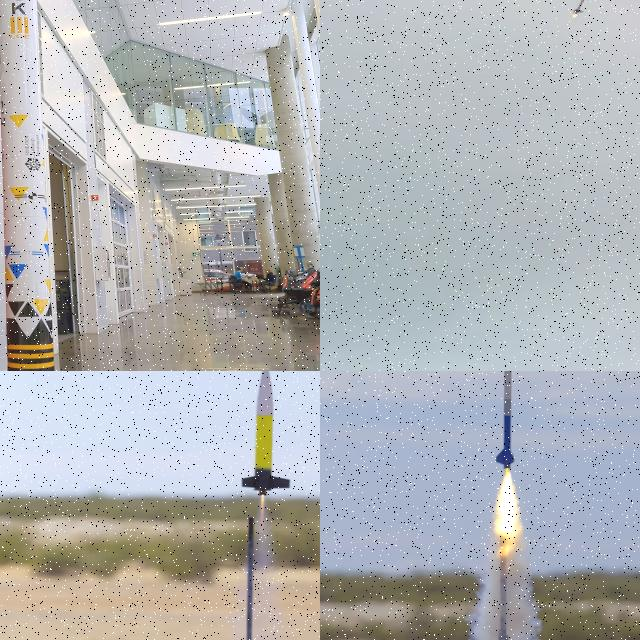Rocket: (241, 371, 290, 496), (495, 371, 516, 470), (571, 0, 591, 14)
